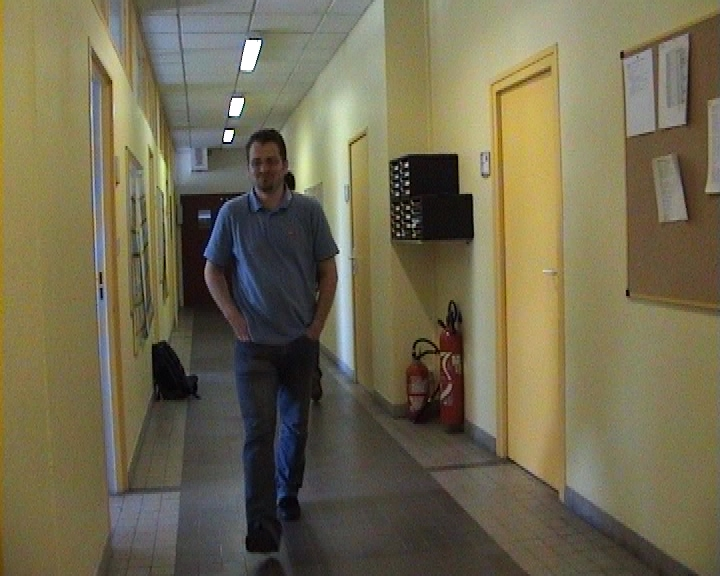leave bag unattended: (137, 319, 355, 510)
